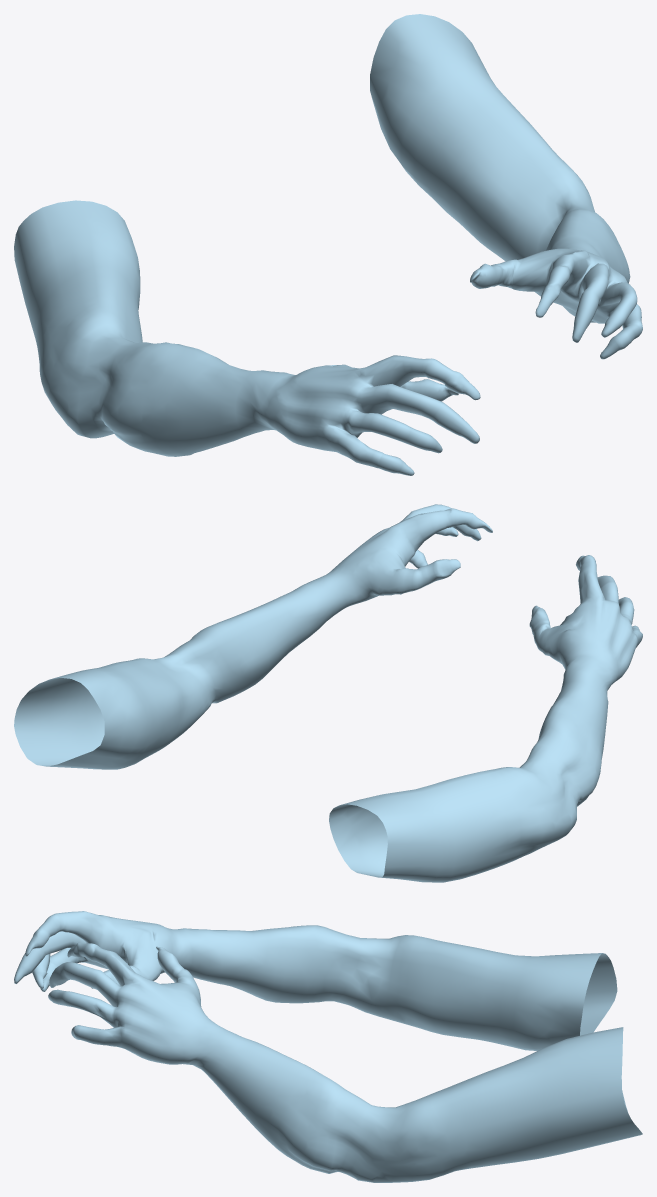
The picture shows the model from 3 angles, top to bottom: view 1: azimuth 30°, elevation 25°; view 2: azimuth 150°, elevation 25°; view 3: azimuth 270°, elevation 25°; orthographic projection. The views are drawn at different scales.
Visible parts, largest first — view 1: c_carrier_v_swipe; view 2: c_carrier_v_swipe; view 3: c_carrier_v_swipe.
Boxes of the visible parts, bbox=[...] form: c_carrier_v_swipe: bbox=[14, 14, 642, 475]; c_carrier_v_swipe: bbox=[14, 504, 642, 882]; c_carrier_v_swipe: bbox=[14, 911, 642, 1182].
Bounding box in the file's own units: 2335 × 933 × 2742.
